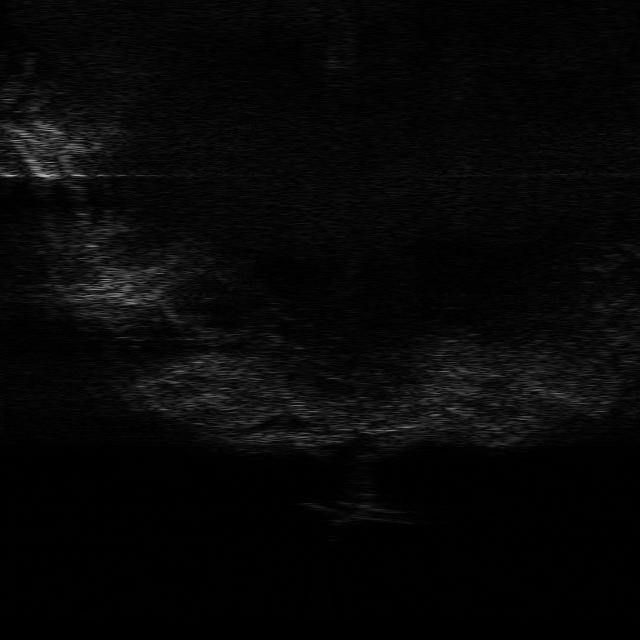plane: (300, 498, 418, 528)
